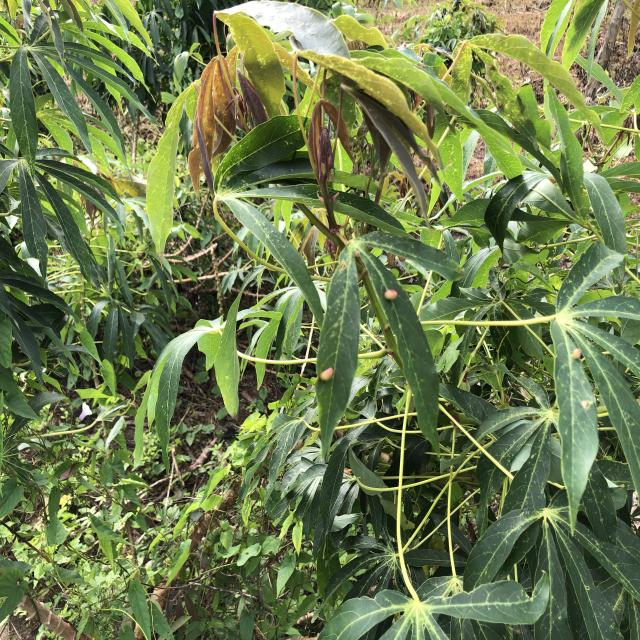Maleza: (9, 421, 265, 638)
Mosca: (572, 393, 599, 416), (378, 275, 399, 302), (315, 363, 335, 383), (570, 342, 584, 369)
